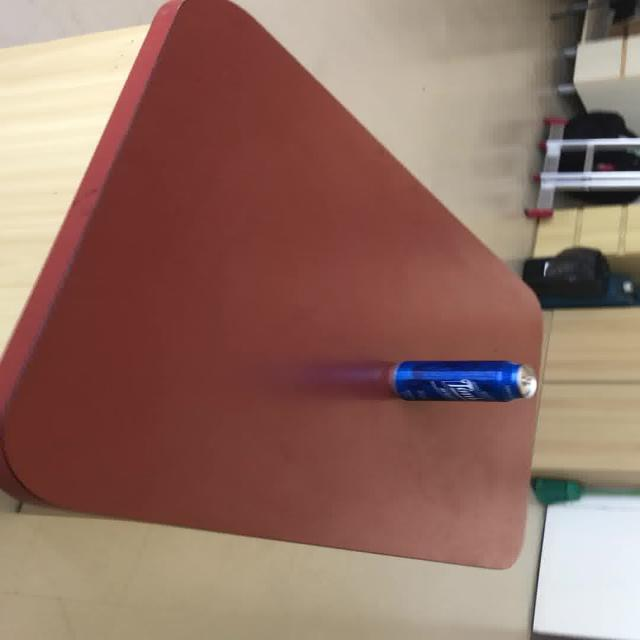tonic: (294, 359, 538, 402), (387, 359, 537, 402)
